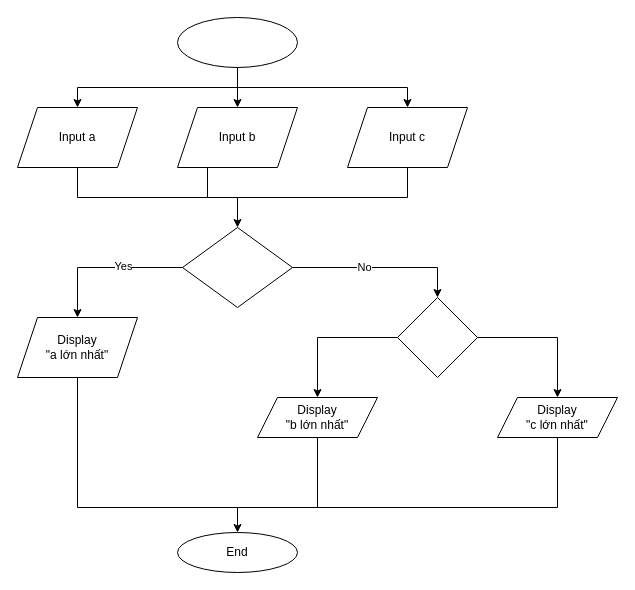
This 635x590 diagram has some shape labels left out. Here are the shapes that lost their labels. From the top down, the centre of each, then its label:
At point (237, 42): "Begin".
At point (237, 267): "a > b && a>c".
At point (437, 337): "b > c".
